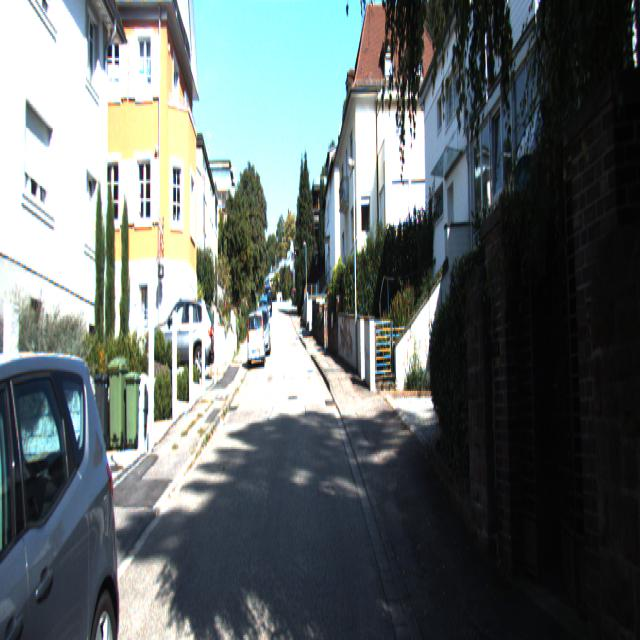Car: (0, 348, 132, 638), (149, 297, 217, 382), (246, 311, 267, 373), (252, 308, 271, 359)
